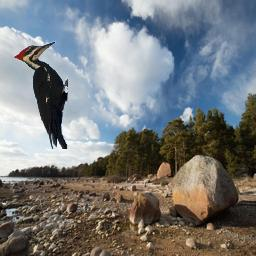Woodpecker: (12, 41, 69, 150)
